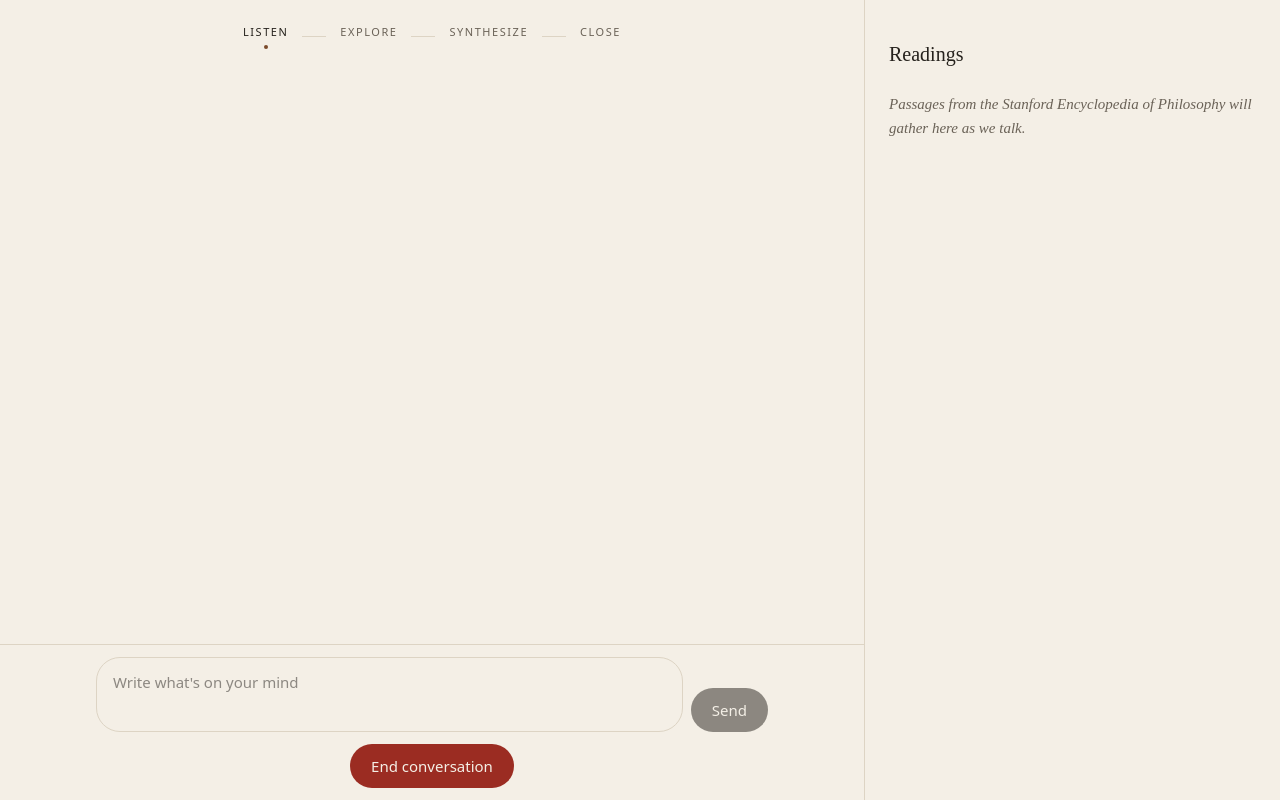
Test case: TextCallScreen › sends a typed message and shows the guide's reply without a microphone
The image size is (1280, 800).
Expected: the list named "Call phase" is shown, [243,24,621,48]
In the text box named "Message": (389,695) [96,657,683,732], type "My sister asked me to co-sign."
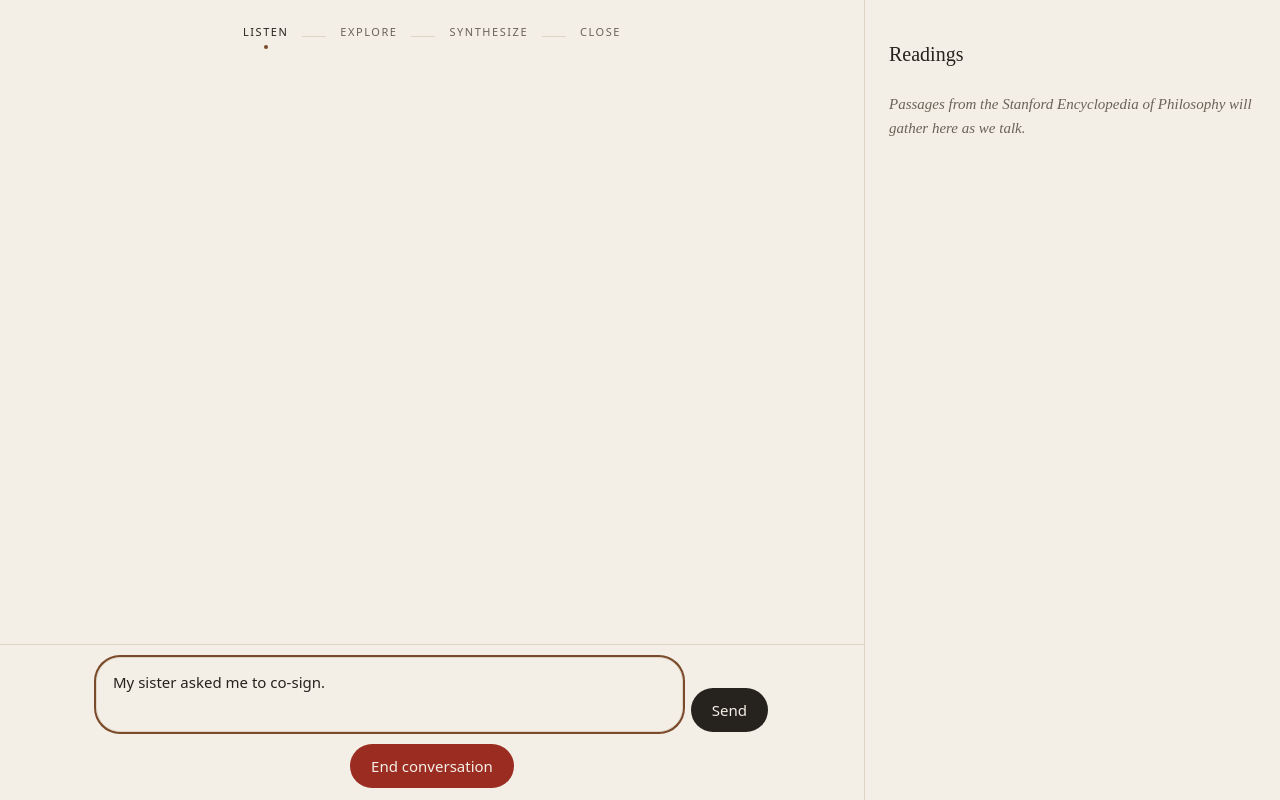
Click the button "Send": (729,710) [691,688,768,732]
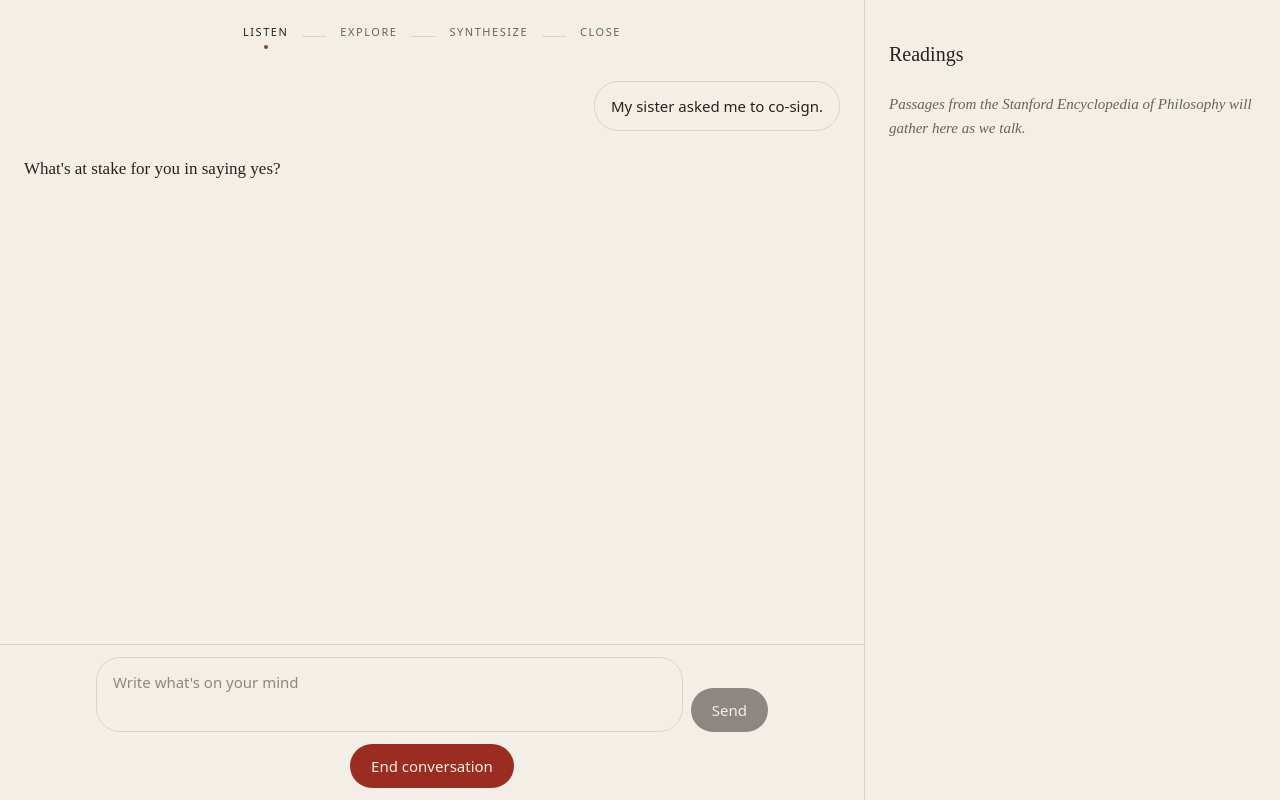
Result: the text "What's at stake for you in saying yes?" is shown at [24,155,281,182]
Result: the text "My sister asked me to co-sign." is shown at [594,80,840,131]
